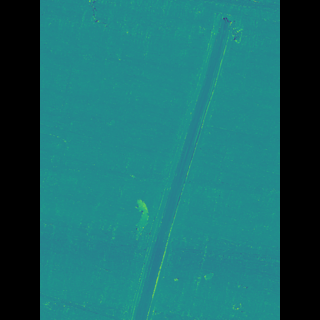Loch: (130, 13, 225, 319)
